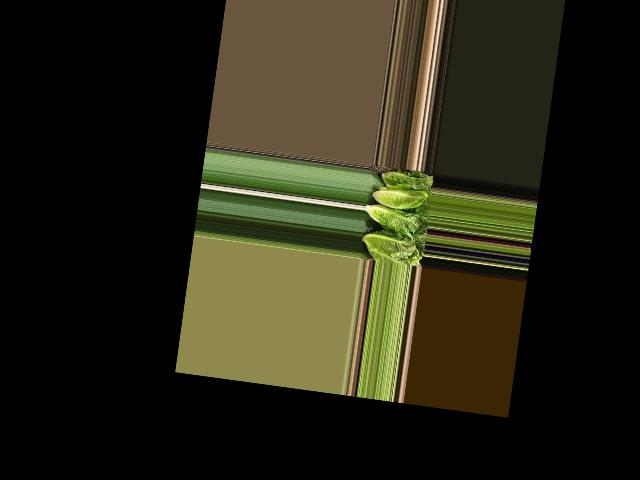lettuce: (381, 170, 433, 192)
